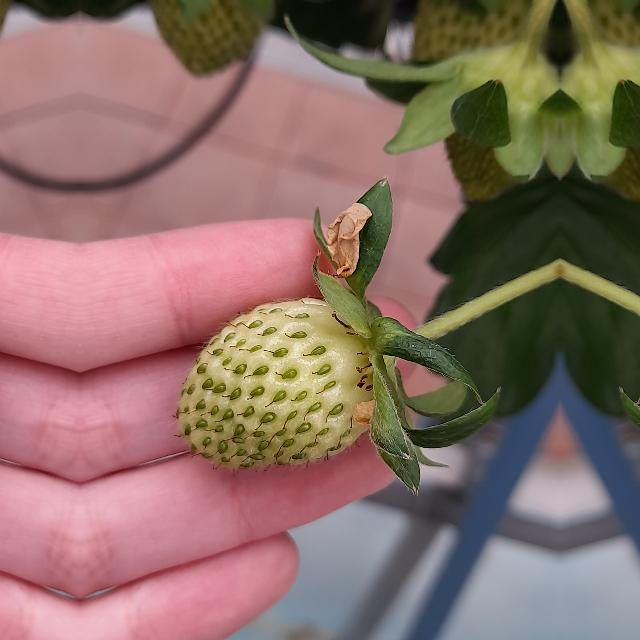Health_25: (176, 296, 372, 470)
